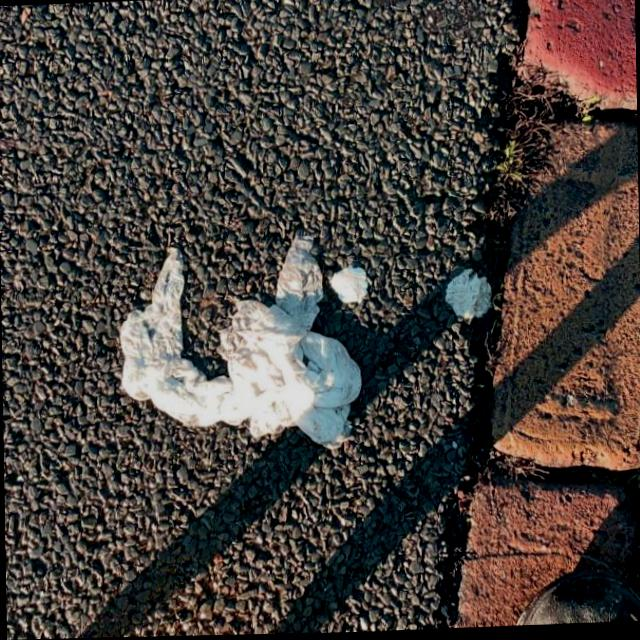Paper: (114, 237, 363, 456)
